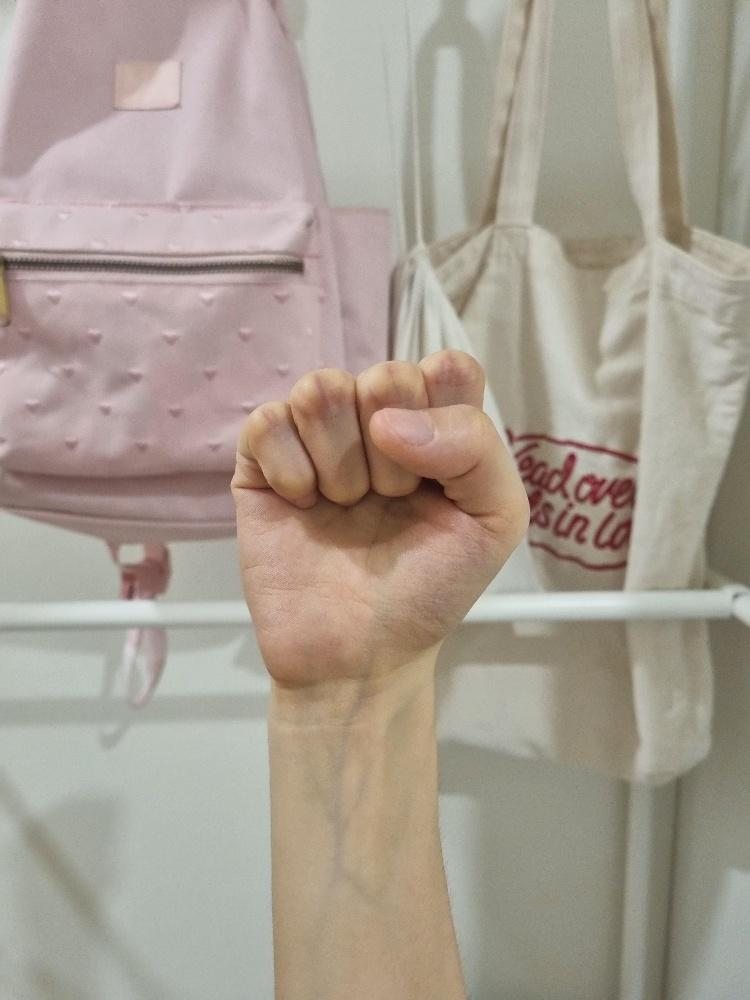s: (228, 346, 532, 692)
